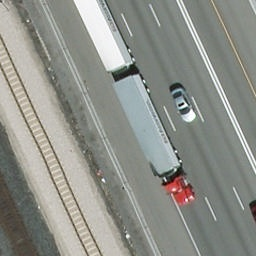car: (172, 87, 199, 125)
truck: (55, 0, 199, 210)
